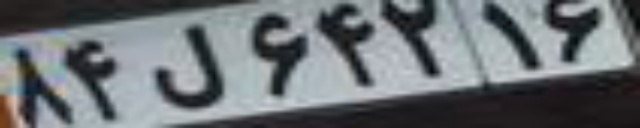1: (475, 2, 536, 72)
2: (377, 0, 442, 76)
4: (314, 4, 377, 88), (62, 41, 125, 118)
6: (247, 14, 309, 96), (542, 0, 602, 64)
8: (9, 47, 73, 125)
lam: (151, 23, 224, 107)
